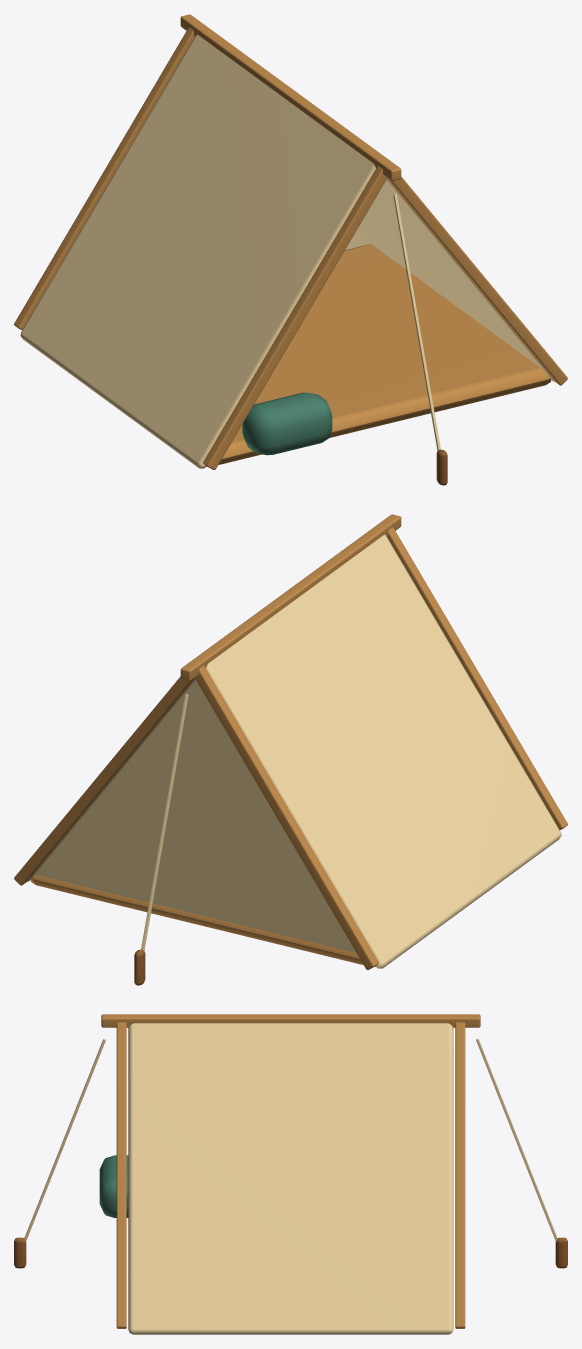
The model's file is tent.glb.
The picture shows the model from 3 angles, top to bottom: view 1: azimuth 30°, elevation 25°; view 2: azimuth 150°, elevation 25°; view 3: azimuth 270°, elevation 25°; orthographic projection. The views are drawn at different scales.
Parts seen in each view (by area): view 1: canvas_panel, groundsheet, canvas_panel.001, tent_pole, rolled_blanket, tent_pole.001, ridge, tent_pole.002, guy_rope; view 2: canvas_panel, canvas_back, tent_pole.001, tent_pole, groundsheet, ridge, tent_pole.003, guy_rope.001; view 3: canvas_panel.001, ridge, tent_pole.002, tent_pole.003, rolled_blanket, guy_rope, guy_rope.001.
Part boxes in pixels (x1,y1,x2,y2): canvas_panel: [20, 34, 375, 468]; groundsheet: [206, 244, 551, 466]; canvas_panel.001: [357, 179, 554, 381]; tent_pole: [203, 165, 386, 469]; rolled_blanket: [242, 392, 332, 455]; tent_pole.001: [14, 27, 194, 329]; ridge: [180, 14, 401, 180]; tent_pole.002: [387, 176, 567, 385]; guy_rope: [393, 194, 440, 450]; canvas_panel: [206, 534, 561, 968]; canvas_back: [34, 680, 356, 953]; tent_pole.001: [195, 665, 378, 969]; tent_pole: [387, 527, 567, 829]; groundsheet: [30, 875, 375, 966]; ridge: [180, 514, 401, 680]; tent_pole.003: [14, 676, 194, 885]; guy_rope.001: [141, 694, 188, 950]; canvas_panel.001: [128, 1023, 453, 1334]; ridge: [101, 1014, 480, 1027]; tent_pole.002: [116, 1022, 126, 1328]; tent_pole.003: [455, 1022, 465, 1328]; rolled_blanket: [99, 1155, 128, 1217]; guy_rope: [24, 1038, 105, 1242]; guy_rope.001: [476, 1038, 557, 1242].
Size of the model in its own units: 5.55 by 4.11 by 8.18.
